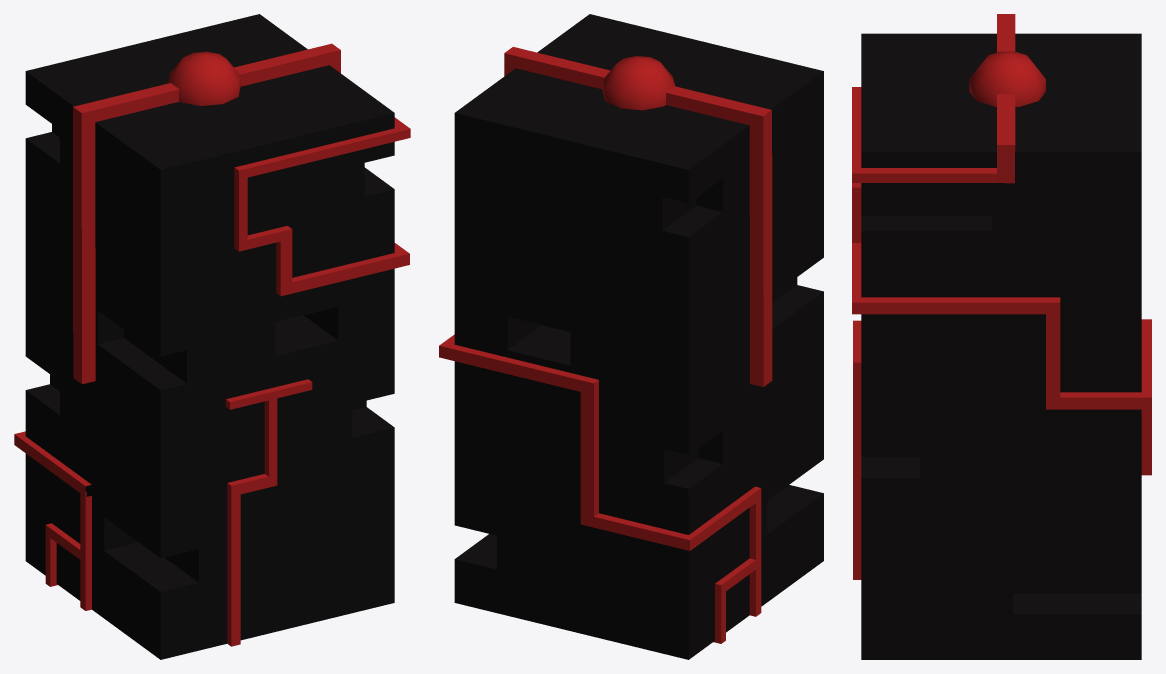
File: monolith.FBX
The picture shows the model from 3 angles, left to right: view 1: azimuth 30°, elevation 25°; view 2: azimuth 150°, elevation 25°; view 3: azimuth 270°, elevation 25°; orthographic projection. The views are drawn at different scales.
Visible parts, largest first — view 1: Box001, Box003, Box002, Sphere001; view 2: Box001, Box003, Sphere001; view 3: Box001, Box003, Sphere001, Box002.
Part boxes in pixels (left/top/right/bottom): Box001: left=25, top=14, right=394, bottom=659; Box003: left=14, top=43, right=410, bottom=610; Box002: left=225, top=379, right=312, bottom=646; Sphere001: left=168, top=51, right=240, bottom=105; Box001: left=454, top=14, right=823, bottom=659; Box003: left=439, top=47, right=772, bottom=643; Sphere001: left=602, top=56, right=674, bottom=110; Box001: left=861, top=33, right=1141, bottom=659; Box003: left=852, top=14, right=1151, bottom=475; Sphere001: left=969, top=51, right=1045, bottom=106; Box002: left=853, top=320, right=861, bottom=579.
Bounding box in the file's own units: 55.34 × 108 × 53.5.
